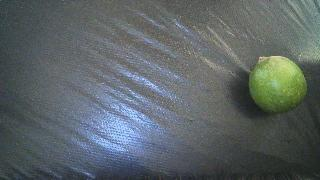DESECHO: (249, 56, 307, 113)
